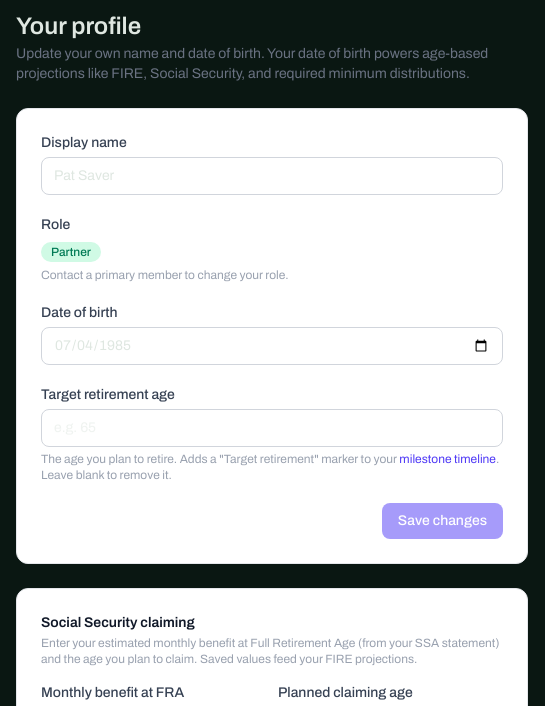
Test: Profile › blocks an out-of-range retirement age
Type "150" into the number field labelled "Target retirement age".
click(272, 428); type("150")  # box [41,409,503,447]
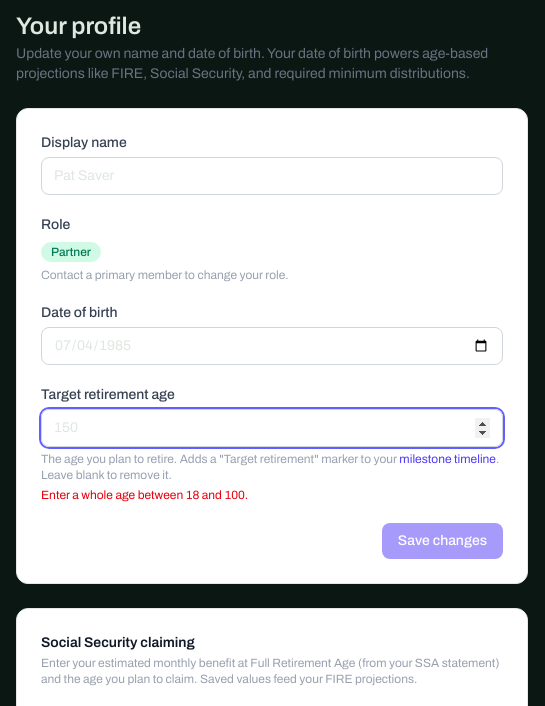
Expected: the button "Save changes" is disabled, [382,523,503,559]
Now the text "Enter a whole age between 18 and 100." is shown, box [41,488,248,502]
